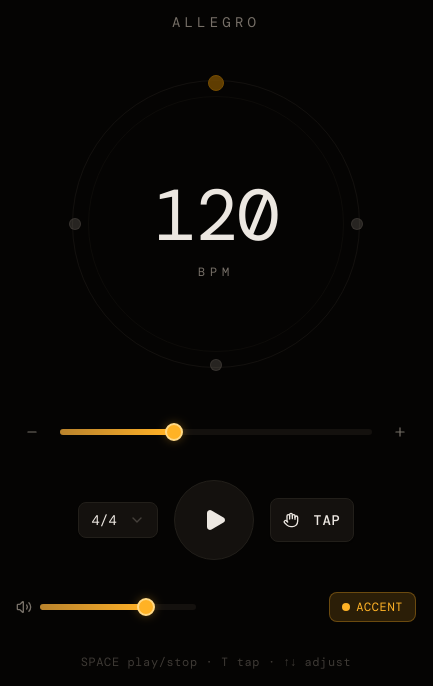
Test: Metronome component › play/stop button › toggles from Start to Stop on click
The image size is (433, 686).
Click the button named "start".
click(214, 520)  # box [174, 480, 254, 560]
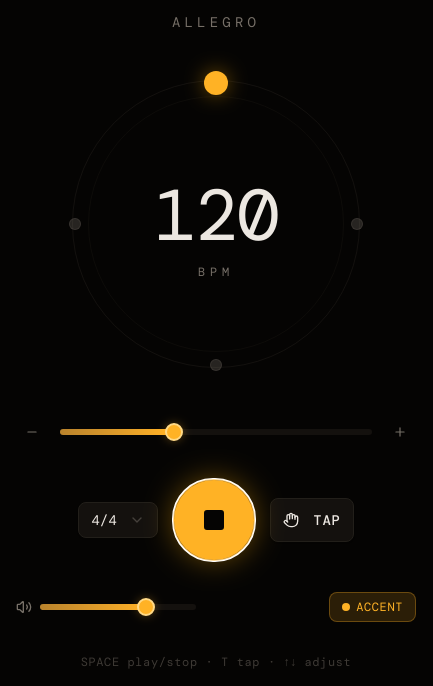
Expected: the button named "stop" is shown, [174, 480, 254, 560]
